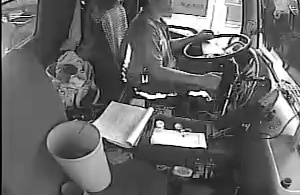paper: (87, 100, 155, 148)
